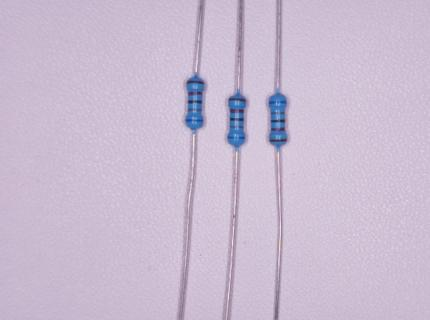Black band: (188, 100, 201, 104), (271, 120, 285, 123), (230, 118, 243, 121)
Blue band: (185, 119, 202, 122), (270, 101, 286, 104), (228, 137, 244, 139)
Brown band: (229, 98, 246, 101), (270, 139, 287, 142), (187, 81, 204, 83)
Grey band: (188, 108, 201, 111), (230, 125, 243, 128), (272, 112, 284, 114)
Red band: (271, 127, 285, 131), (189, 92, 202, 96), (230, 109, 243, 113)
